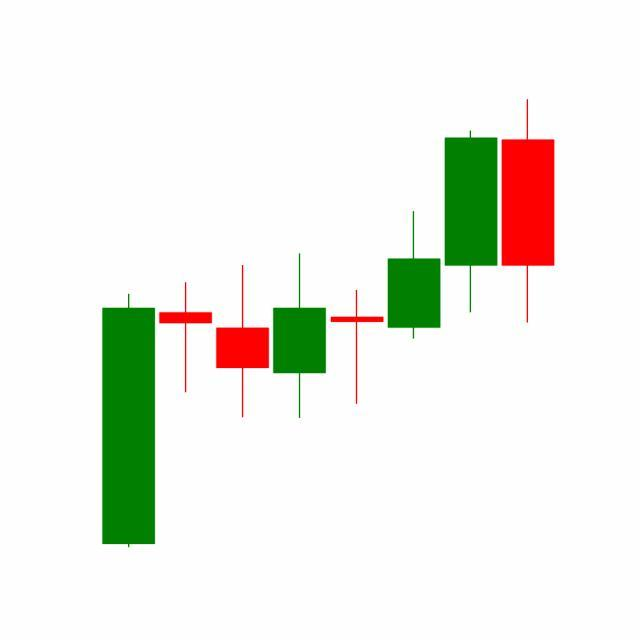Three Outside Up-Down: (328, 128, 500, 407)
